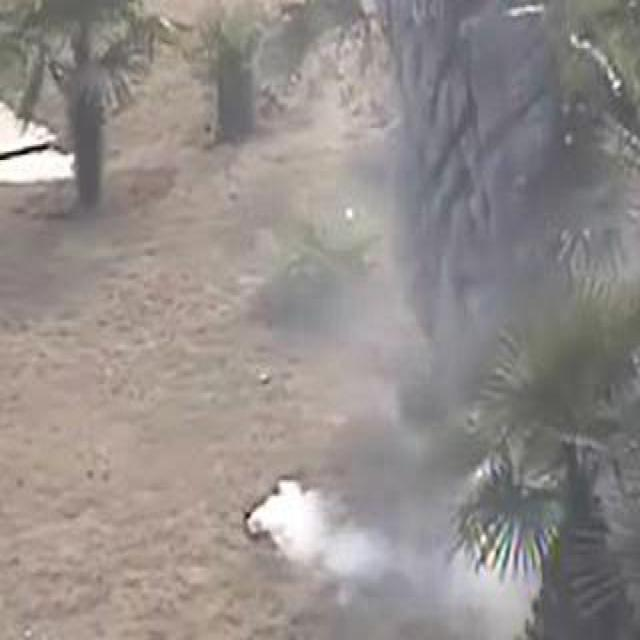Smoke: (244, 478, 546, 640)
